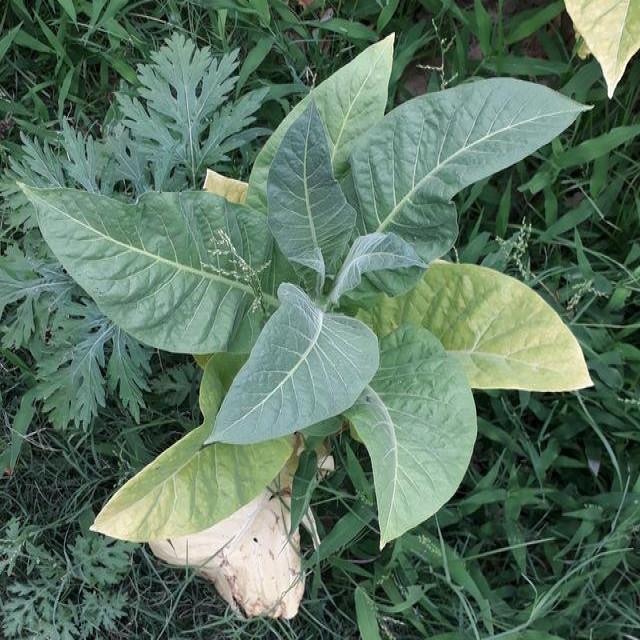crop: (20, 41, 594, 608)
